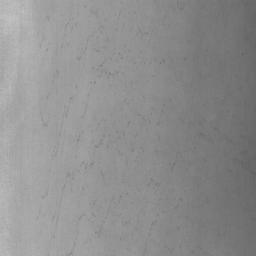Silk spot: (92, 62, 119, 79)
